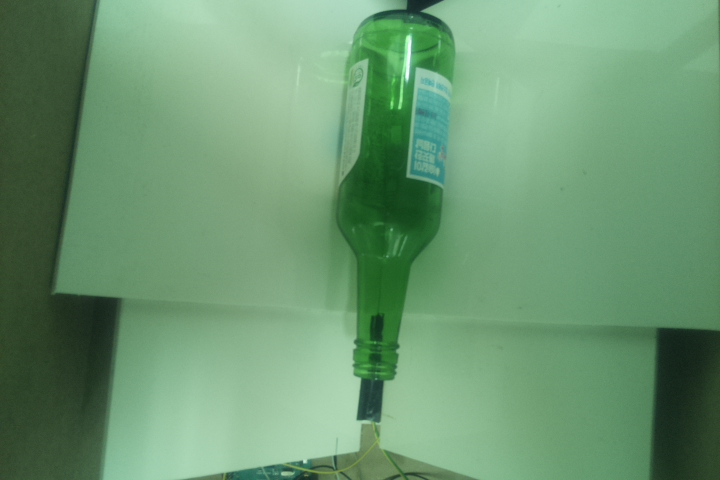soju: (333, 7, 455, 380)
